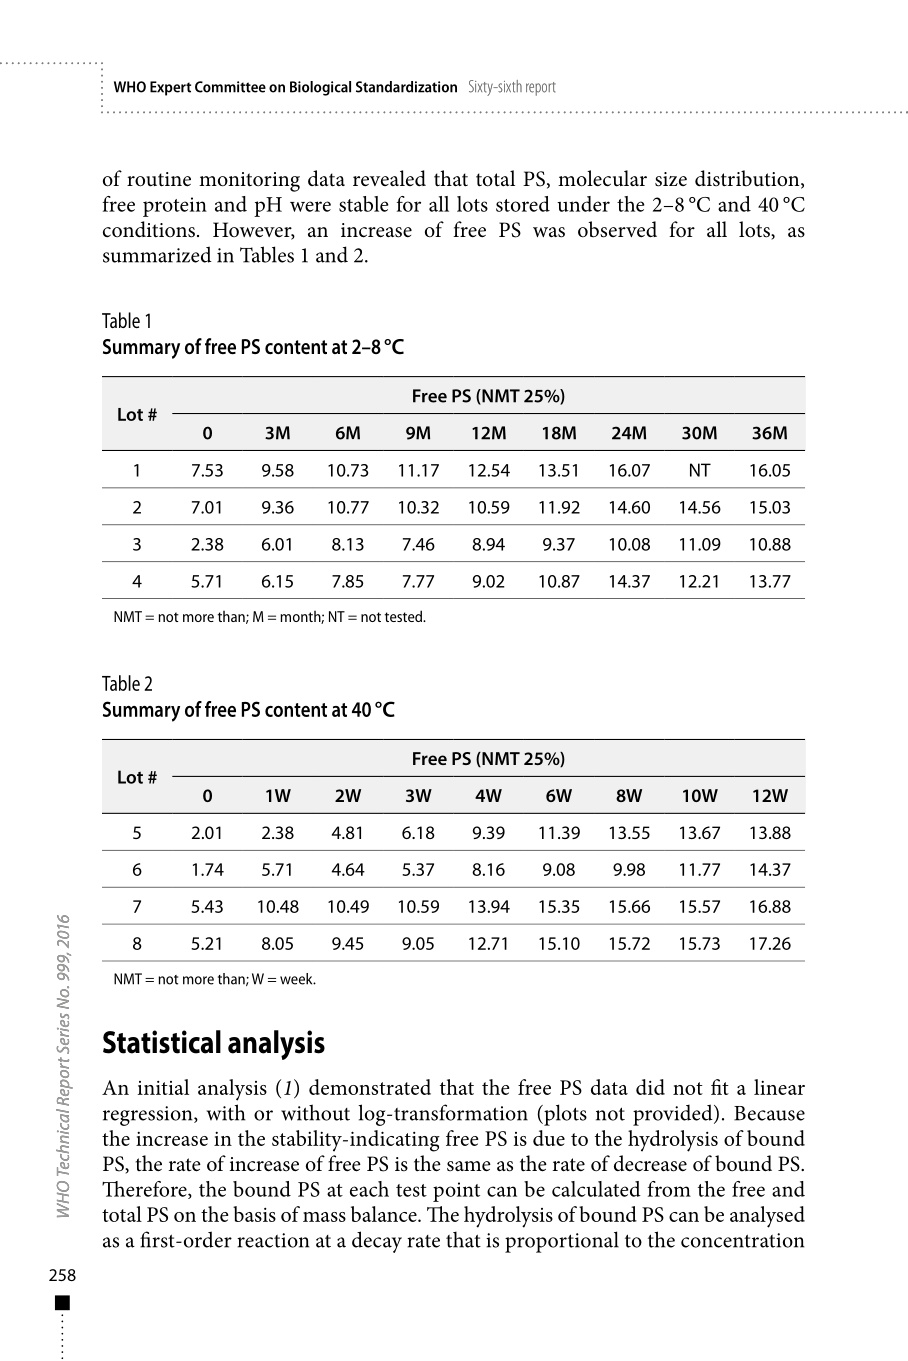partial_lined_merged_cells: (103, 736, 809, 963), (102, 374, 809, 600)
